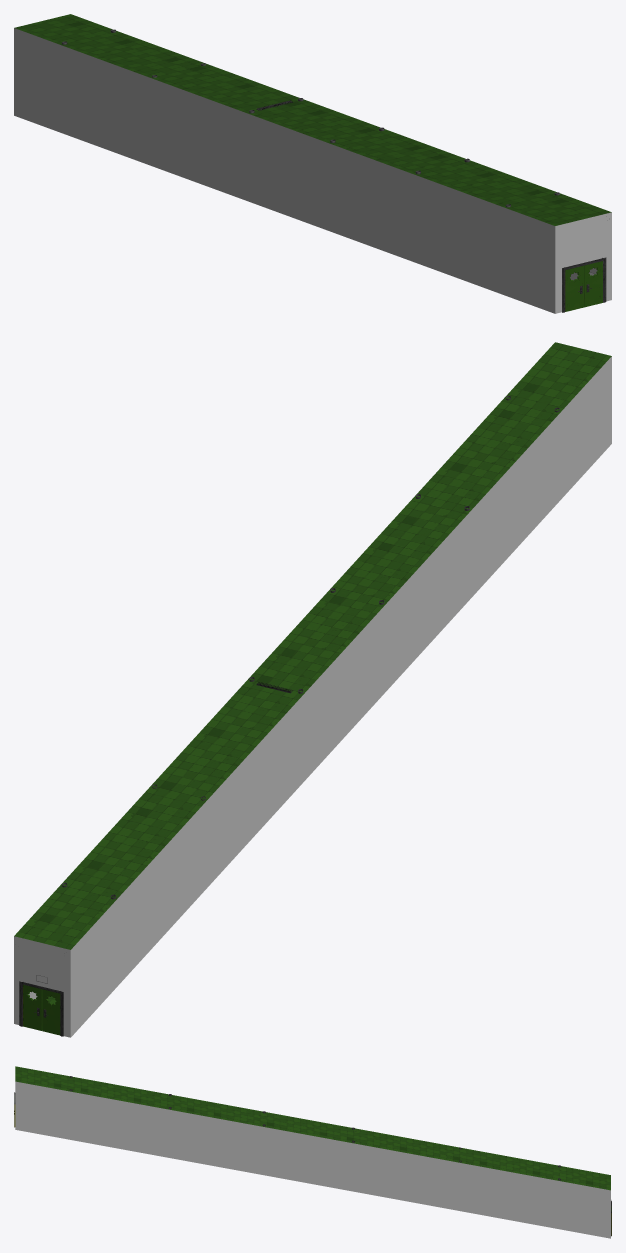
Rendered from Slide_Lvl1.fbx.
3 renders of one model, top to bottom at view 1: azimuth 30°, elevation 25°; view 2: azimuth 150°, elevation 25°; view 3: azimuth 270°, elevation 25°, orthographic. The views are drawn at different scales.
Visible parts, largest first — view 1: Wall, Roof, Right, Left, Frame; view 2: Wall, Roof; view 3: Wall, Roof.
Boxes of the visible parts, left/top/right/bottom form: Wall: left=14, top=28, right=611, bottom=313; Roof: left=14, top=14, right=611, bottom=225; Right: left=565, top=265, right=584, bottom=311; Left: left=584, top=261, right=602, bottom=307; Frame: left=562, top=257, right=606, bottom=312; Wall: left=14, top=356, right=611, bottom=1037; Roof: left=14, top=342, right=611, bottom=949; Wall: left=15, top=1081, right=610, bottom=1238; Roof: left=15, top=1066, right=610, bottom=1190.
Bounding box in the file's own units: 9.3 × 44.68 × 154.
